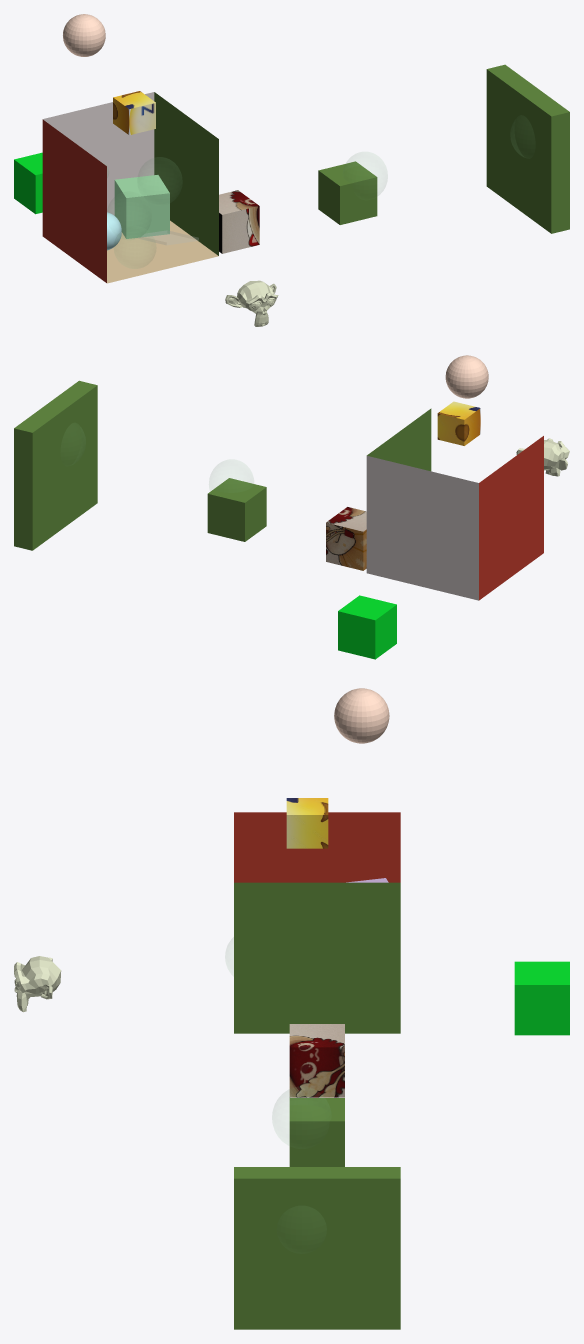
Rendered from coord.fbx.
3 renders of one model, top to bottom at view 1: azimuth 30°, elevation 25°; view 2: azimuth 150°, elevation 25°; view 3: azimuth 270°, elevation 25°, orthographic. The views are drawn at different scales.
Parts seen in each view (by area): view 1: 立方体.001, left_face, right_face, back_face, down_face, 立方体, cube_short, cube_right, cube_up, cube_forward, 球体.002, 苏珊娜 (+2 smaller); view 2: back_face, 立方体.001, left_face, 立方体, cube_forward, cube_right, right_face, cube_up, 球体.002, 苏珊娜; view 3: 立方体.001, right_face, left_face, cube_forward, cube_right, 立方体, 球体.002, cube_up, 苏珊娜.
Part boxes in pixels (left/top/right/bottom): 立方体.001: left=486, top=64, right=569, bottom=233; left_face: left=42, top=119, right=106, bottom=282; right_face: left=154, top=92, right=218, bottom=255; back_face: left=43, top=92, right=154, bottom=215; down_face: left=107, top=220, right=218, bottom=283; 立方体: left=318, top=161, right=377, bottom=224; cube_short: left=114, top=175, right=169, bottom=238; cube_right: left=219, top=190, right=259, bottom=253; cube_up: left=113, top=91, right=155, bottom=135; cube_forward: left=14, top=152, right=42, bottom=214; 球体.002: left=63, top=14, right=105, bottom=56; 苏珊娜: left=225, top=280, right=278, bottom=326; back_face: left=366, top=456, right=478, bottom=600; 立方体.001: left=14, top=380, right=97, bottom=550; left_face: left=479, top=436, right=543, bottom=600; 立方体: left=207, top=478, right=266, bottom=541; cube_forward: left=338, top=595, right=396, bottom=659; cube_right: left=326, top=507, right=366, bottom=570; right_face: left=367, top=408, right=431, bottom=471; cube_up: left=437, top=401, right=480, bottom=445; 球体.002: left=445, top=355, right=488, bottom=398; 苏珊娜: left=516, top=438, right=569, bottom=476; 立方体.001: left=234, top=1167, right=400, bottom=1329; right_face: left=234, top=882, right=400, bottom=1033; left_face: left=234, top=812, right=400, bottom=882; cube_forward: left=514, top=961, right=569, bottom=1035; cube_right: left=289, top=1024, right=344, bottom=1097; 立方体: left=289, top=1098, right=344, bottom=1166; 球体.002: left=334, top=688, right=389, bottom=743; cube_up: left=286, top=798, right=328, bottom=848; 苏珊娜: left=14, top=956, right=61, bottom=1012.
Size of the model in its own units: 2530 by 2005 by 1452.
